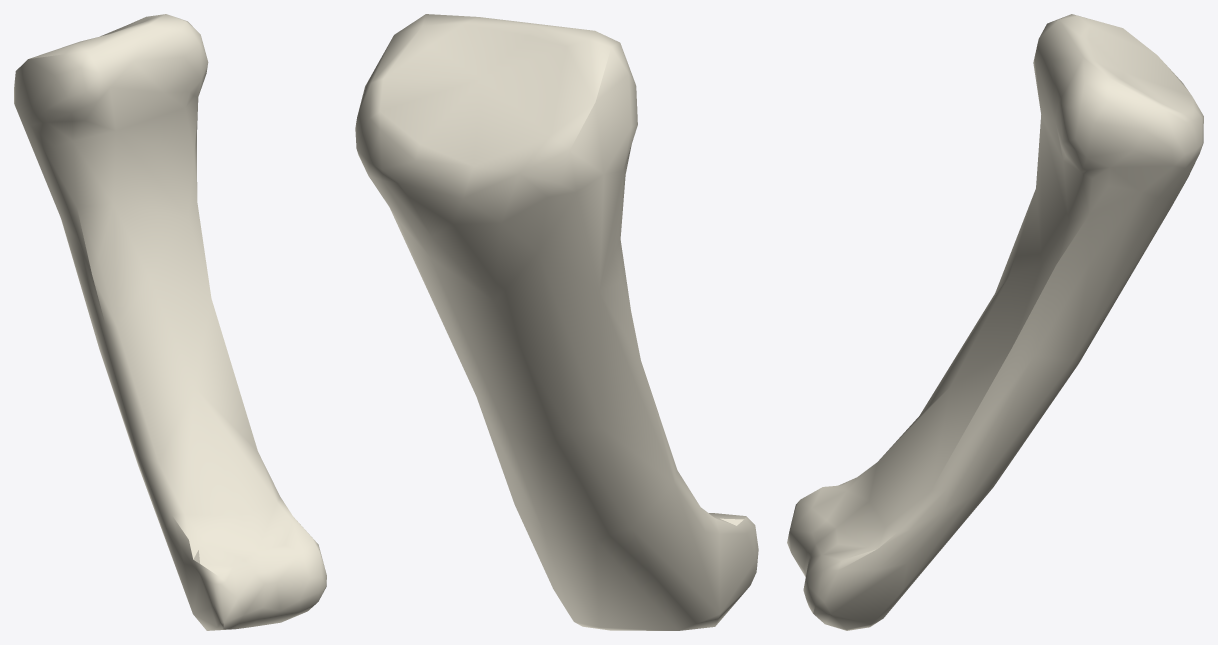
File: fma71916_fj3317.glb
3 renders of one model, left to right at view 1: azimuth 30°, elevation 25°; view 2: azimuth 150°, elevation 25°; view 3: azimuth 270°, elevation 25°, orthographic. The views are drawn at different scales.
Parts seen in each view (by area): view 1: FMA71916_FJ3317; view 2: FMA71916_FJ3317; view 3: FMA71916_FJ3317.
Part boxes in pixels (box(x1,y1,x2,y2)): FMA71916_FJ3317: box(14, 14, 326, 630); FMA71916_FJ3317: box(355, 14, 758, 630); FMA71916_FJ3317: box(787, 14, 1203, 630).
Size of the model in its own units: 0.0134 by 0.0389 by 0.0262.
